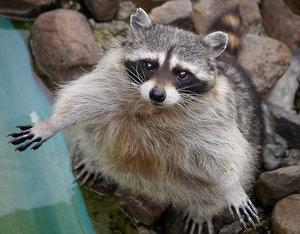raccoon: (6, 7, 264, 233)
